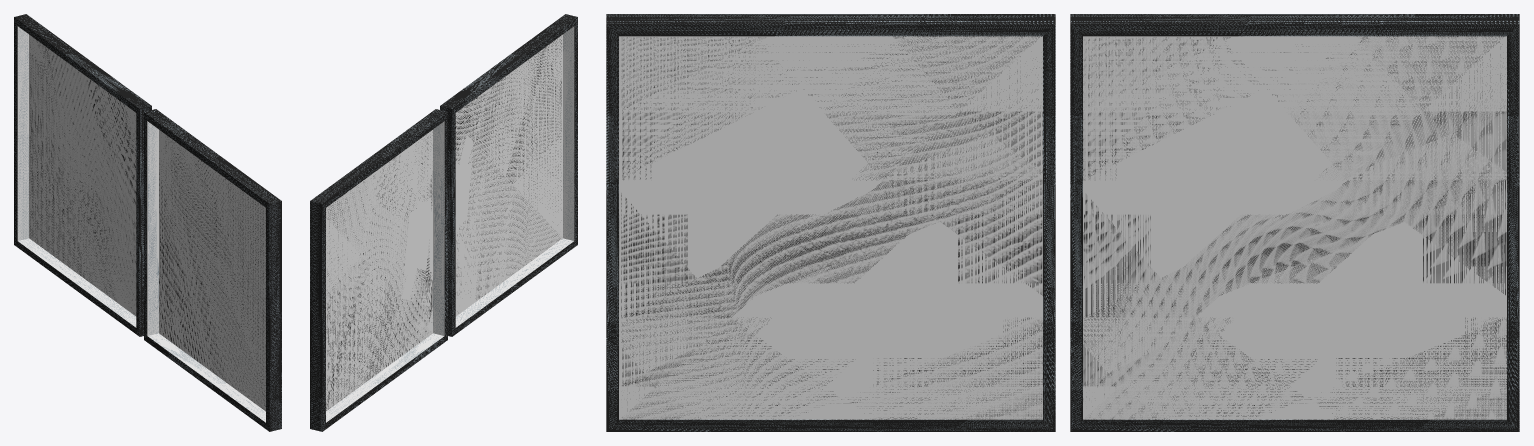
Rendered from art28.dae.
3 views of the same model, side by side, from view 1: azimuth 30°, elevation 25°; view 2: azimuth 150°, elevation 25°; view 3: azimuth 270°, elevation 25° (orthographic). The views are drawn at different scales.
Visible parts, largest first — view 1: group_0 (×3), group_1 (×3); view 2: group_1 (×3), group_0 (×3); view 3: group_0 (×3), group_1 (×3).
Boxes of the visible parts, <box> form: group_0 (×3): <box>144,109,281,431</box>; group_1 (×3): <box>14,14,151,336</box>; group_1 (×3): <box>310,109,447,431</box>; group_0 (×3): <box>440,14,577,336</box>; group_0 (×3): <box>606,14,1055,431</box>; group_1 (×3): <box>1070,14,1519,431</box>.
Size of the model in its own units: 1.18 by 42.4 by 20.87.
5 materials, 2 textured.
